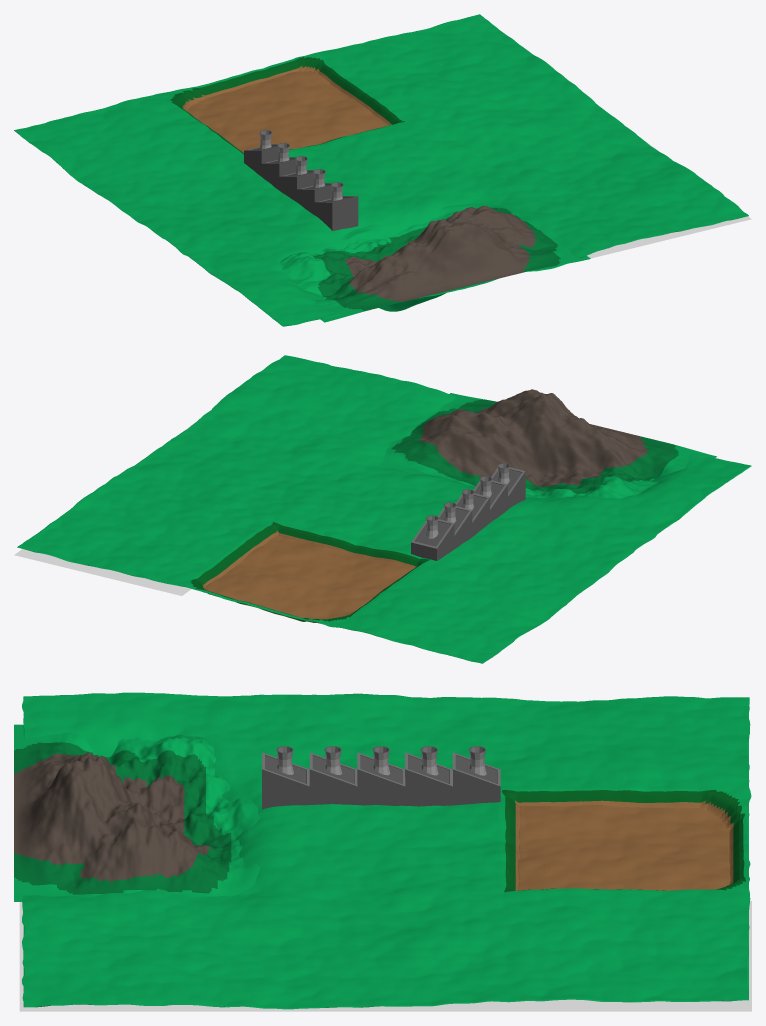
File: Map.fbx
3 views of the same model, one above another, from view 1: azimuth 30°, elevation 25°; view 2: azimuth 150°, elevation 25°; view 3: azimuth 270°, elevation 25° (orthographic). The views are drawn at different scales.
Parts seen in each view (by area): view 1: BigGround, Mountain, Building, Stack, CityRasterized; view 2: BigGround, Mountain, Building, CityRasterized, Stack; view 3: BigGround, Mountain, Building, CityRasterized, Stack.
Part boxes in pixels (left/top/right/bottom): BigGround: left=14, top=14, right=748, bottom=326; Mountain: left=280, top=203, right=590, bottom=322; Building: left=244, top=144, right=358, bottom=230; Stack: left=259, top=130, right=343, bottom=201; CityRasterized: left=587, top=139, right=751, bottom=258; BigGround: left=17, top=355, right=751, bottom=663; Mountain: left=383, top=389, right=716, bottom=498; Building: left=411, top=467, right=525, bottom=560; CityRasterized: left=14, top=421, right=196, bottom=595; Stack: left=426, top=463, right=509, bottom=538; BigGround: left=22, top=692, right=751, bottom=1009; Mountain: left=14, top=724, right=259, bottom=901; Building: left=262, top=752, right=500, bottom=809; CityRasterized: left=19, top=901, right=751, bottom=1011; Stack: left=276, top=746, right=486, bottom=775.
Bounding box in the file's own units: 100197 × 18552 × 101275.
